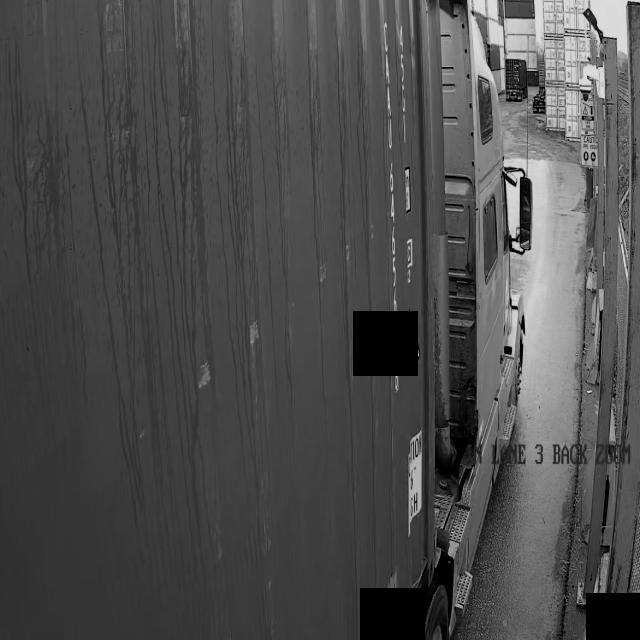container_side_no: (380, 15, 403, 400)
truck_with_container: (0, 0, 535, 640)
